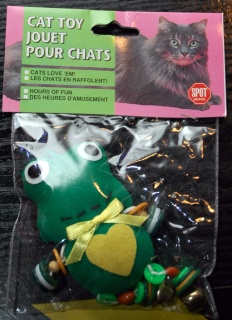Cat: (114, 14, 223, 110)
